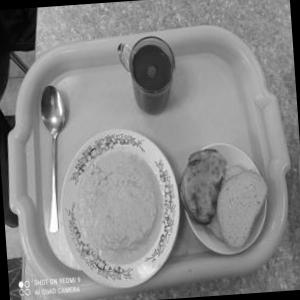bread: (209, 157, 275, 260)
cheese_sandwich: (174, 139, 232, 229)
coffee: (116, 22, 188, 125)
porridge: (64, 142, 174, 271)
